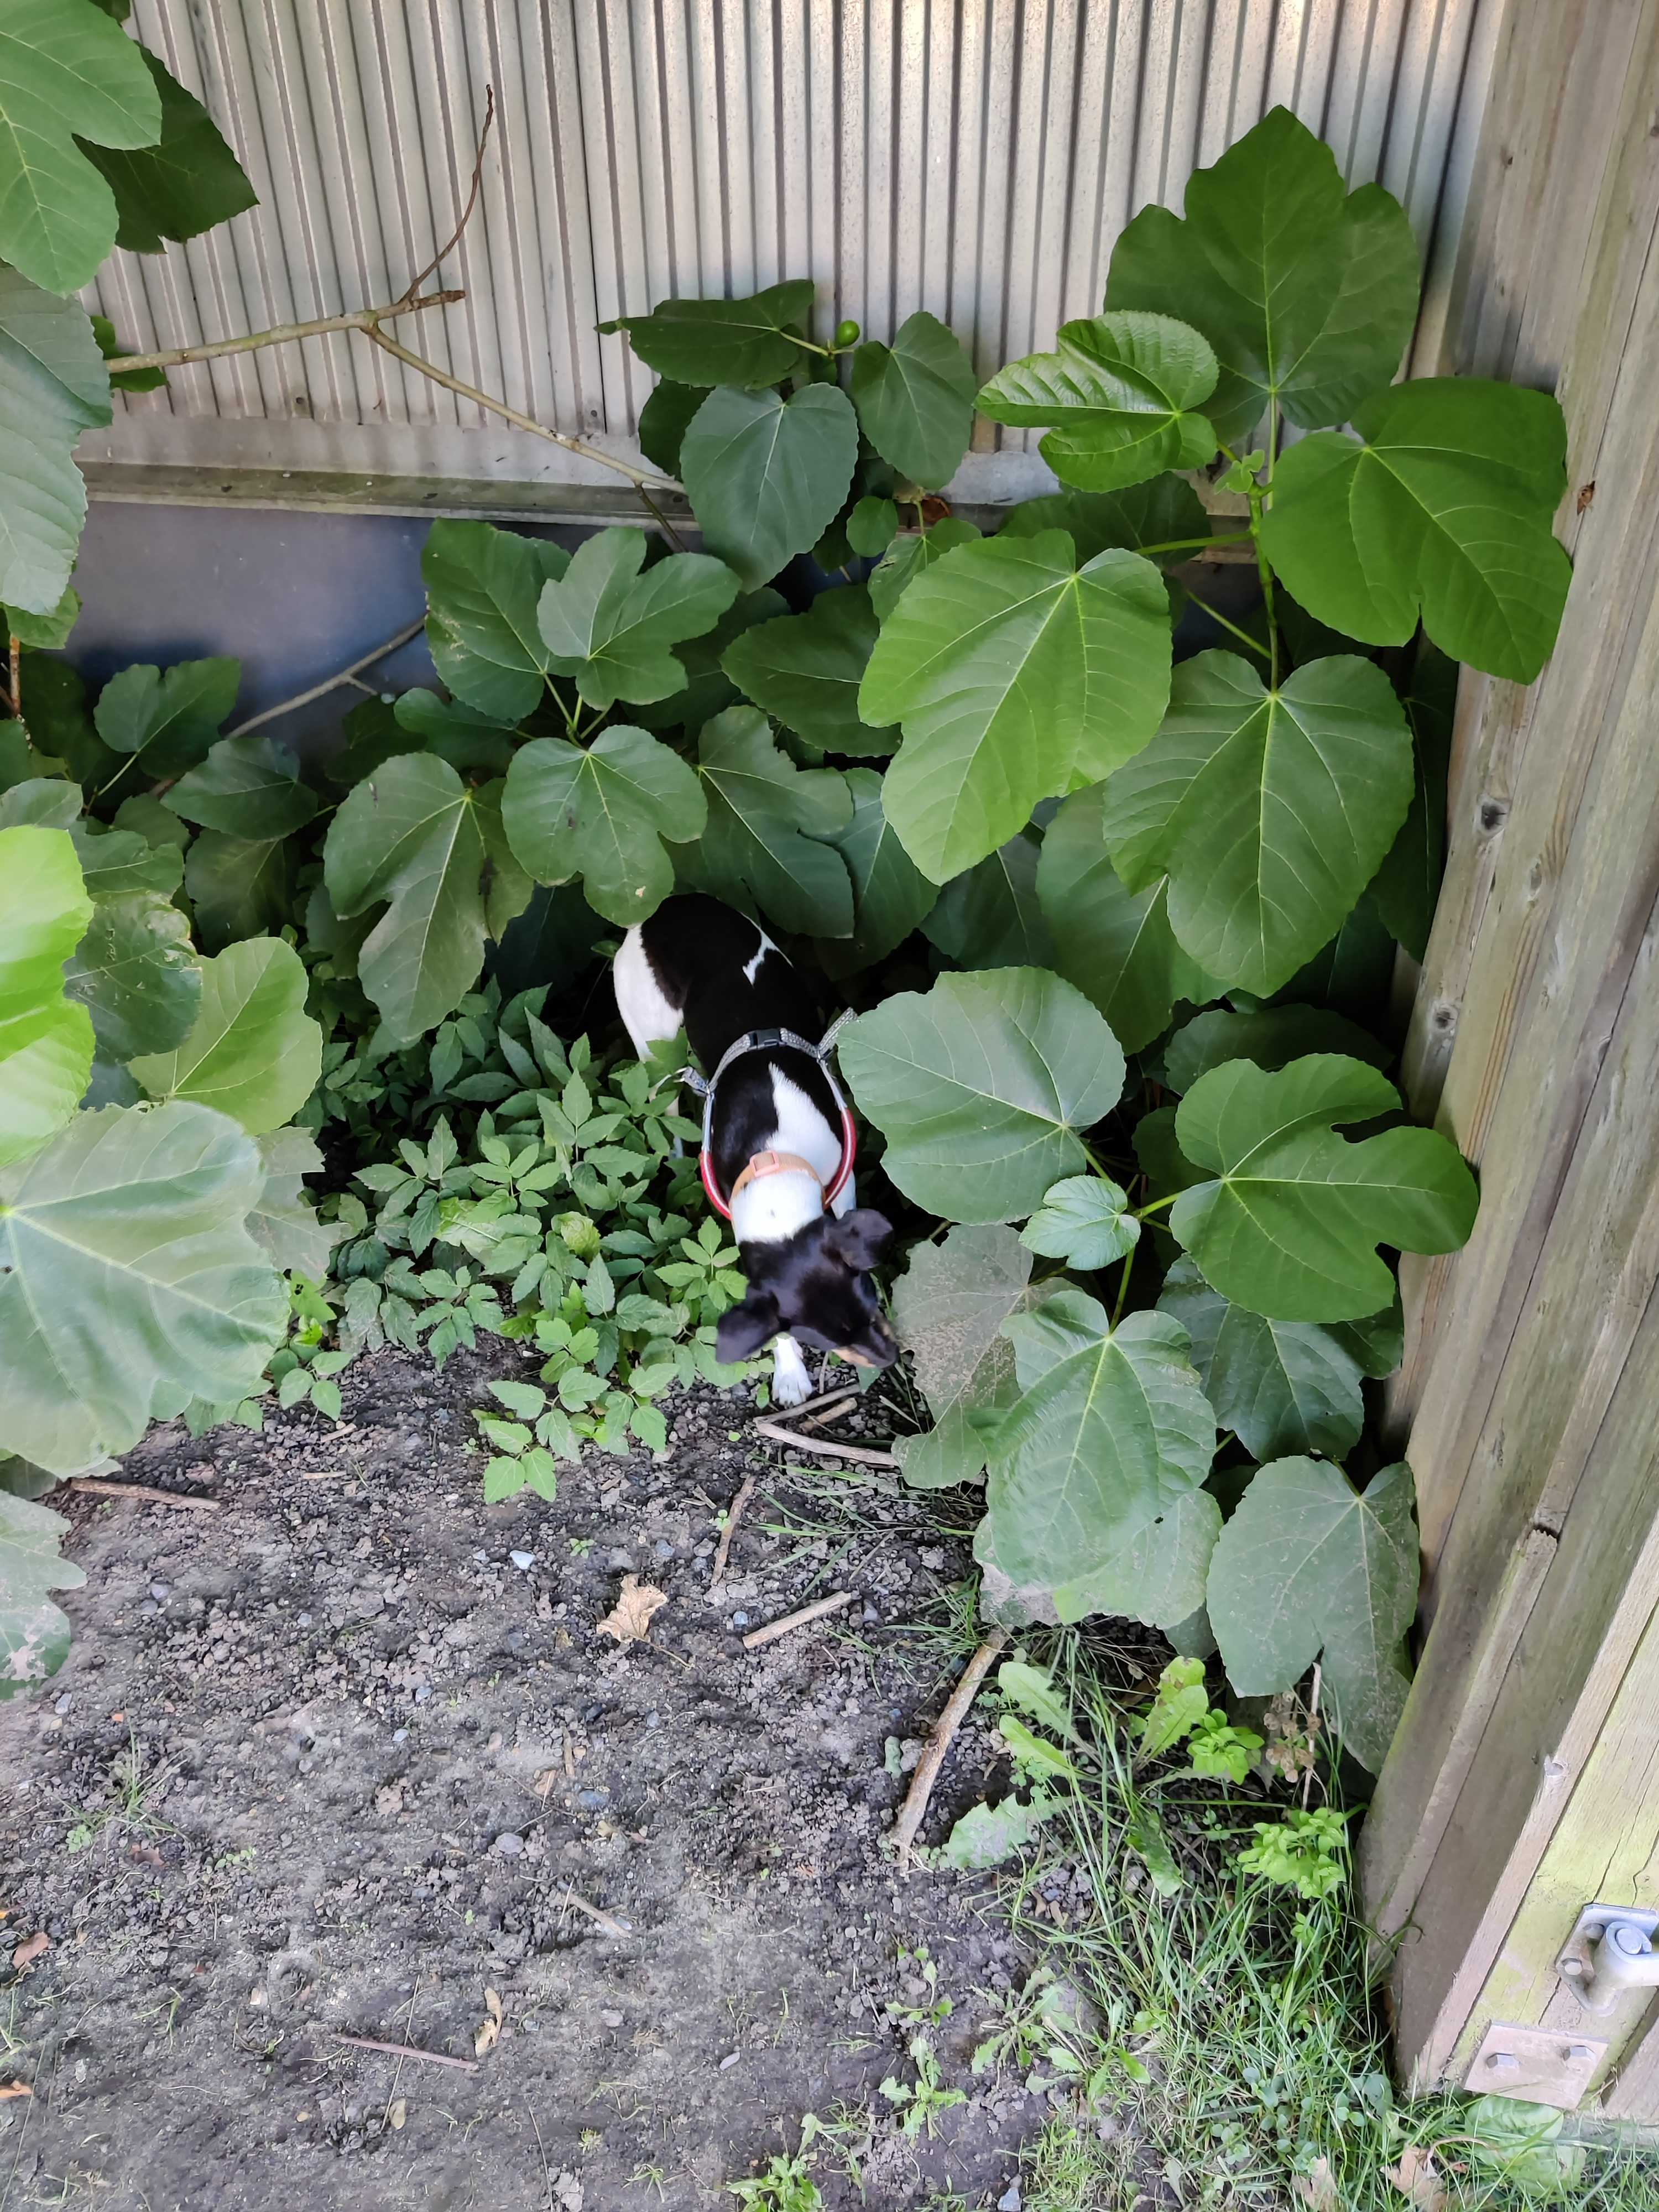Dog: (605, 883, 925, 1413)
